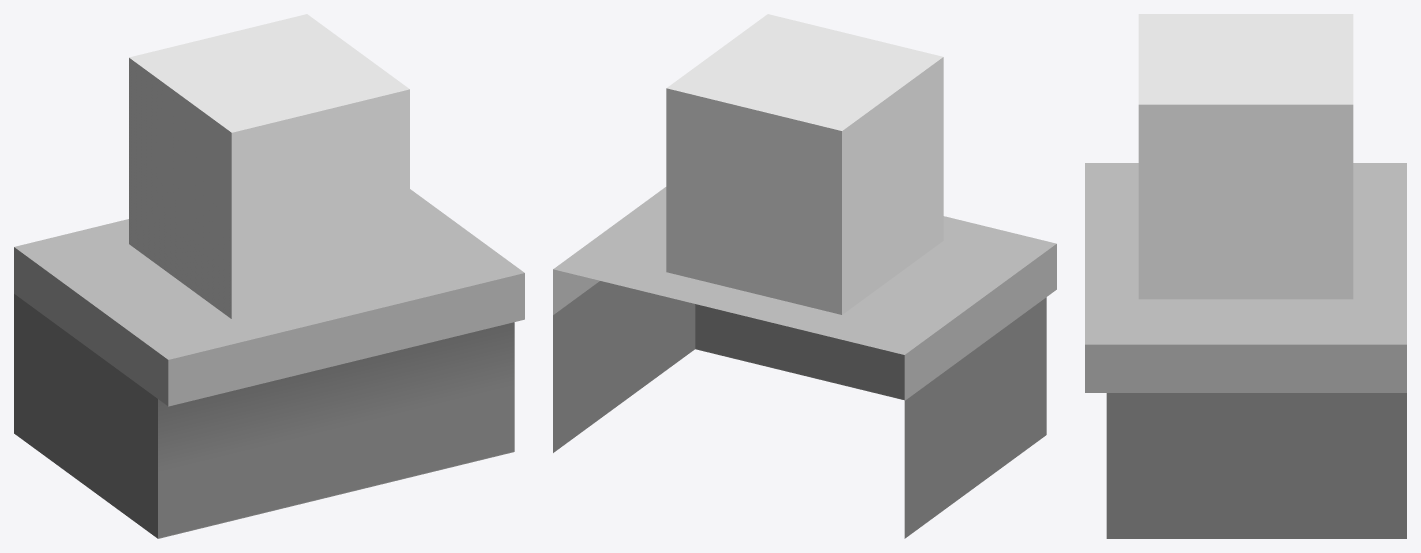
3 renders of one model, left to right at view 1: azimuth 30°, elevation 25°; view 2: azimuth 150°, elevation 25°; view 3: azimuth 270°, elevation 25°, orthographic. The views are drawn at different scales.
Parts seen in each view (by area): view 1: Box03, Regroup04, Regroup01, Regroup07, Regroup02, Regroup06; view 2: Box03, Regroup07, Regroup01, Regroup04, Regroup06; view 3: Box03, Regroup07, Regroup01, Regroup06.
Part boxes in pixels (bbox=[...]): Box03: bbox=[129, 14, 409, 319]; Regroup04: bbox=[158, 322, 514, 538]; Regroup01: bbox=[14, 189, 524, 359]; Regroup07: bbox=[14, 294, 157, 538]; Regroup02: bbox=[168, 273, 524, 406]; Regroup06: bbox=[14, 247, 168, 405]; Box03: bbox=[666, 14, 943, 314]; Regroup07: bbox=[553, 281, 1046, 538]; Regroup01: bbox=[553, 187, 1056, 354]; Regroup04: bbox=[695, 304, 904, 400]; Regroup06: bbox=[553, 244, 1056, 400]; Box03: bbox=[1138, 14, 1353, 299]; Regroup07: bbox=[1106, 393, 1406, 538]; Regroup01: bbox=[1085, 163, 1406, 344]; Regroup06: bbox=[1085, 344, 1406, 392].
Size of the model in its own units: 4 by 4 by 3.
